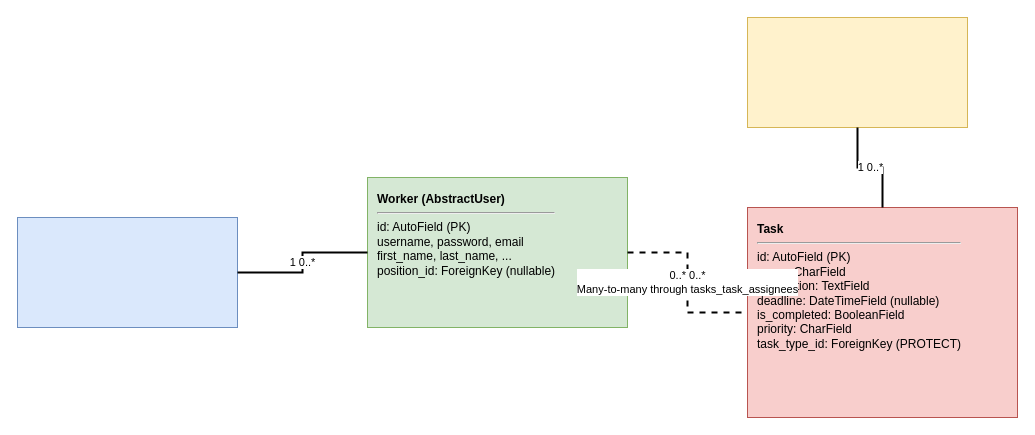
Some shapes in this 1035 by 435 pixel diagram are drawn without their labels. The centre of each missing label's shape, as x and y in pixels:
"Position id: AutoField (PK) name: CharField" belongs at (127,272).
"TaskType id: AutoField (PK) name: CharField" belongs at (857,72).
